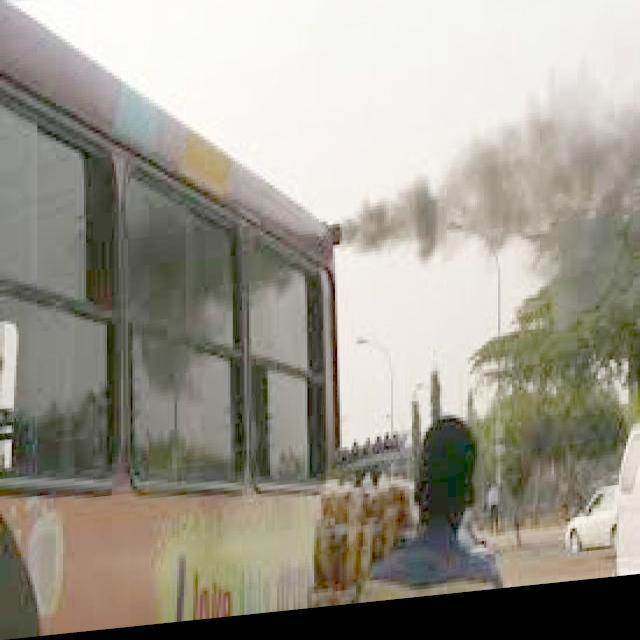Smoke: (323, 61, 640, 342)
